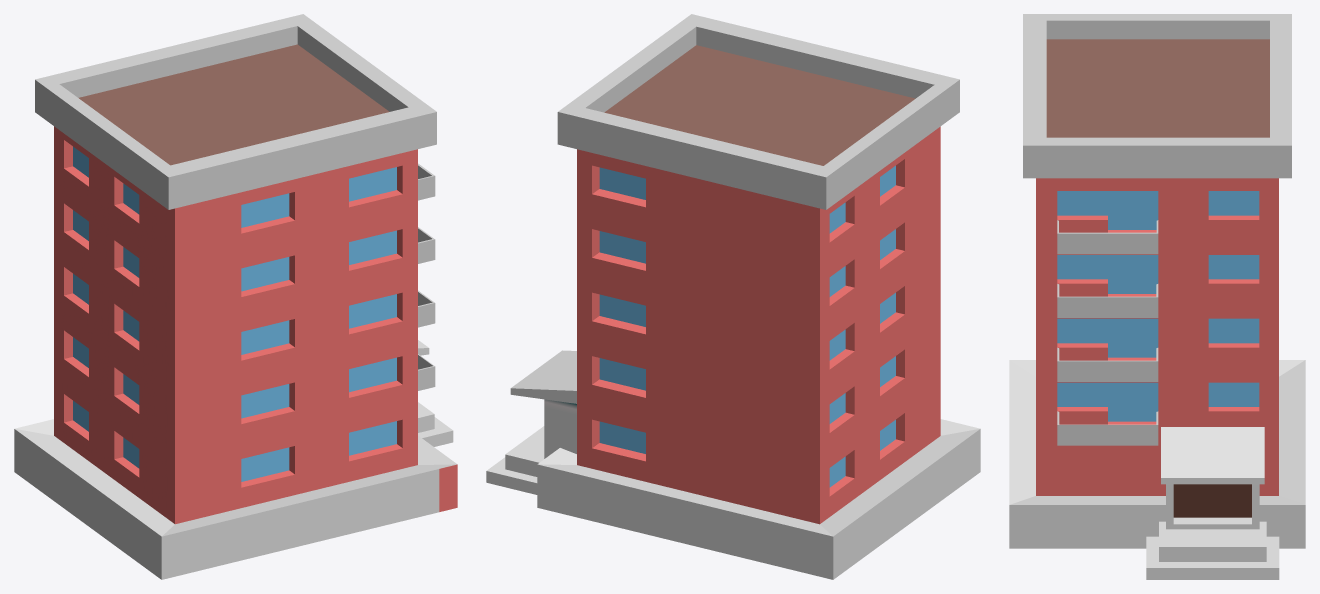
File: build_3_1.dae
3 views of the same model, side by side, from view 1: azimuth 30°, elevation 25°; view 2: azimuth 150°, elevation 25°; view 3: azimuth 270°, elevation 25° (orthographic).
Parts seen in each view (by area): view 1: house_3; view 2: house_3; view 3: house_3.
Boxes of the visible parts, box(x1,y1,x2,y2) form: house_3: box(14, 14, 457, 579); house_3: box(486, 14, 980, 579); house_3: box(1009, 14, 1305, 579).
Size of the model in its own units: 14.41 by 10.22 by 15.09.
1 material, 1 textured.
